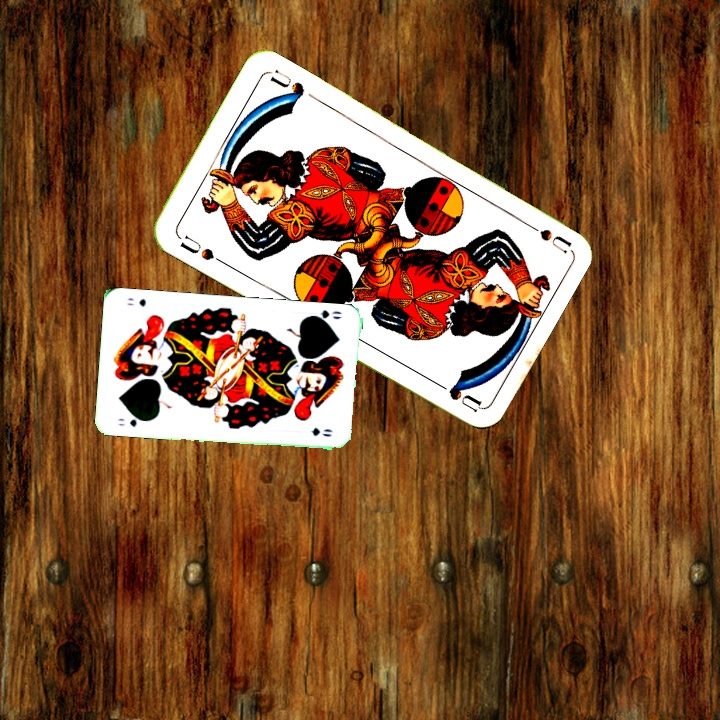GO: (306, 306, 345, 325), (113, 413, 150, 429)
SU: (516, 215, 572, 255), (176, 231, 227, 267)
